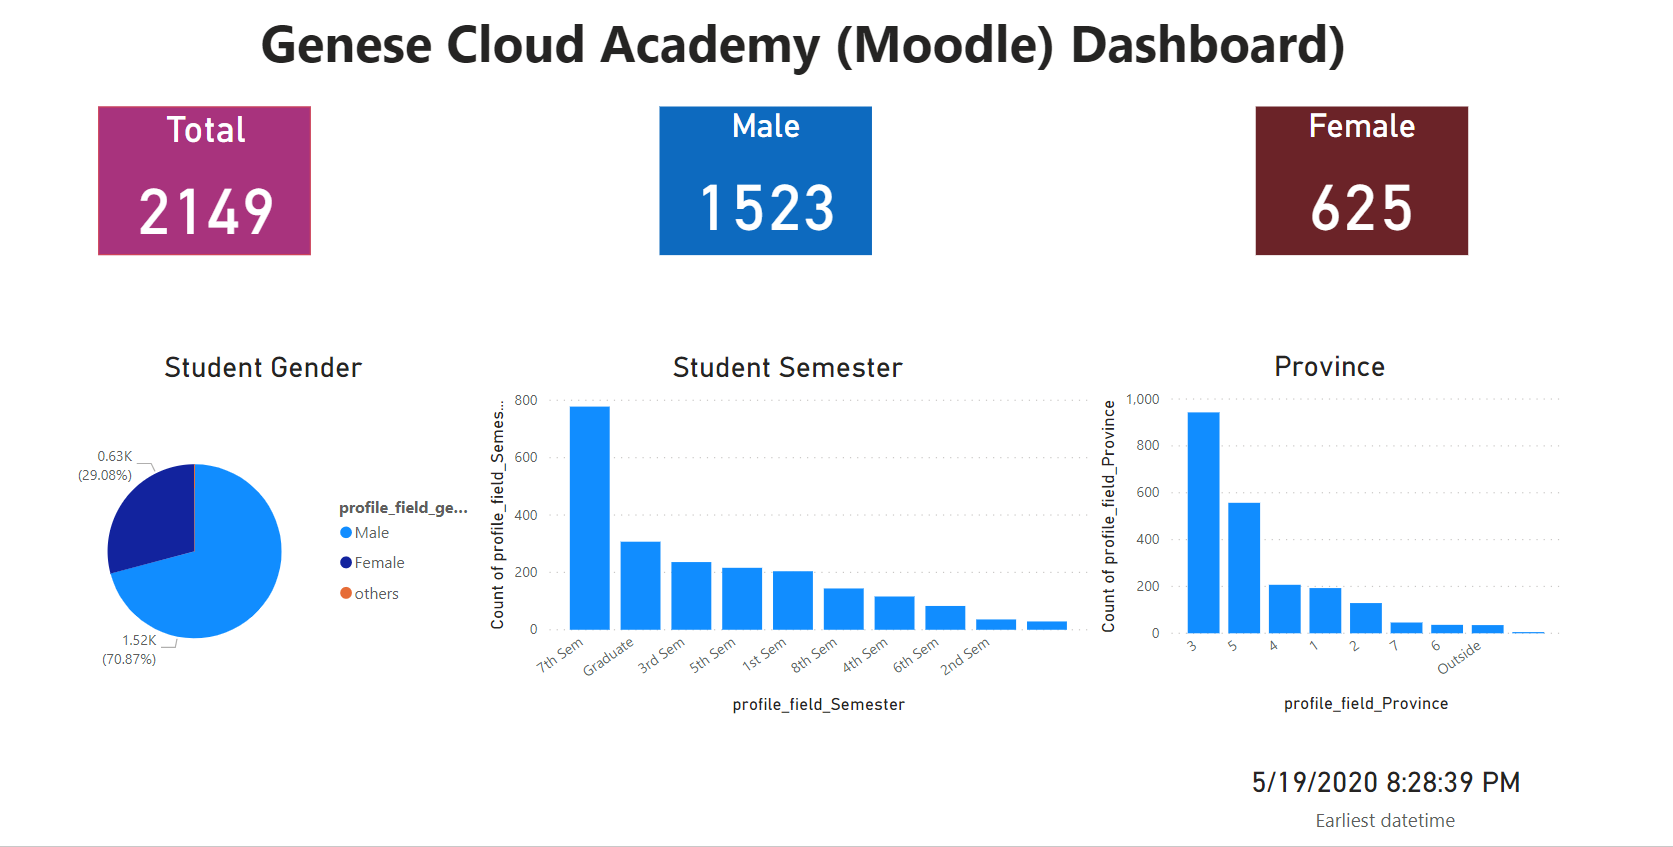

This screenshot's page, from the dashboard's own definition file:
{"tool":"powerbi","page":{"name":"Dashboard","canvas":[1280,720],"ordinal":0},"visuals":[{"type":"pieChart","title":"Student Gender","fields":{"Category":["user_latest.profile_field_gender1"],"Series":["user_latest.profile_field_gender1"],"Y":["CountNonNull(user_latest.profile_field_gender)"]},"box":[2.1,303.2,367.2,310.5],"z":0},{"type":"columnChart","title":"Student Semester","fields":{"Category":["user_latest.profile_field_Semester1"],"Y":["CountNonNull(user_latest.profile_field_Semester)1"]},"box":[369.4,303.2,513.4,310.5],"z":1000},{"type":"columnChart","title":"Province","fields":{"Category":["user_latest.profile_field_Province1"],"Y":["CountNonNull(user_latest.profile_field_Province)1"]},"box":[882.3,302.7,397.4,310.5],"z":2000},{"type":"card","title":"Total","fields":{"Values":["CountNonNull(user_latest.id)"]},"box":[47.1,98.8,178.8,124.4],"z":3000},{"type":"card","title":"Male","fields":{"Values":["CountNonNull(user_latest.profile_field_gender)"]},"box":[518.2,98.8,178.8,124.4],"z":4000},{"type":"card","title":"Female","fields":{"Values":["CountNonNull(user_latest.profile_field_gender)"]},"box":[1019.5,98.8,178.8,124.4],"z":5000},{"type":"textbox","box":[0,10.9,1279.3,72.5],"z":6000},{"type":"card","fields":{"Values":["Min(Kathmandu.datetime)"]},"box":[994.2,641.5,268.2,68.9],"z":7000}]}

Visuals, with their boxes on the page's 1280x720 design canvas (x1, y1, x2, y2). These are canvas units, not pixel positions in the 1673x847 screenshot, which may show the page scaled, cropped or inside an application window:
"Student Gender" pieChart: detection(2, 303, 369, 614)
"Student Semester" columnChart: detection(369, 303, 883, 614)
"Province" columnChart: detection(882, 303, 1280, 613)
"Total" card: detection(47, 99, 226, 223)
"Male" card: detection(518, 99, 697, 223)
"Female" card: detection(1020, 99, 1198, 223)
textbox: detection(0, 11, 1279, 83)
card - Min(Kathmandu.datetime): detection(994, 642, 1262, 710)
